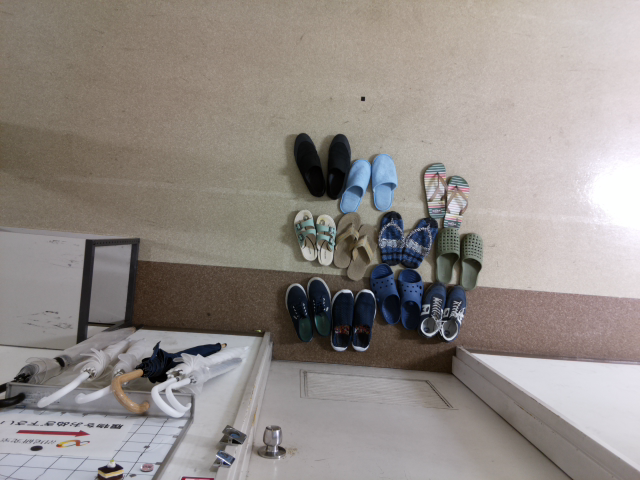Copy of Copy of Copy of Copy of Copy of Copy of Copy of Copy of Copy of Copy of: (358, 259, 405, 331), (408, 275, 449, 348), (432, 281, 473, 353), (389, 266, 429, 338), (396, 212, 442, 272), (342, 286, 382, 354), (280, 278, 320, 345), (298, 273, 338, 340), (323, 286, 363, 353), (432, 218, 465, 288), (372, 204, 407, 269), (450, 231, 485, 296)
Copy of Copy of Copy of Copy of Copy of Copy of Copy of Copy of Copy of shoe: (344, 220, 379, 291)
Copy of Copy of Copy of Copy of Copy of Copy of Copy of Copy of shoe: (329, 208, 363, 275)
Copy of Copy of Copy of Copy of Copy of Copy of Copy of shoe: (306, 210, 340, 277)
Copy of Copy of Copy of Copy of Copy of Copy of shoe: (288, 200, 322, 267)
Copy of Copy of Copy of Copy of Copy of shoe: (332, 153, 376, 218)
Copy of Copy of Copy of Copy of Copy of umbrella: (1, 310, 138, 411)
Copy of Copy of Copy of Copy of shoe: (366, 147, 404, 217)
Copy of Copy of Copy of Copy of umbrella: (34, 319, 147, 413)
Copy of Copy of Copy of shoe: (436, 169, 474, 239)
Copy of Copy of Copy of umbrella: (71, 322, 159, 412)
Copy of Copy of shoe: (415, 156, 453, 226)
Copy of Copy of umbrella: (105, 335, 231, 416)
Copy of shoe: (320, 129, 358, 203)
Copy of umbrella: (160, 346, 255, 420)
shoe: (292, 126, 330, 200)
umbrella: (144, 331, 256, 421)
